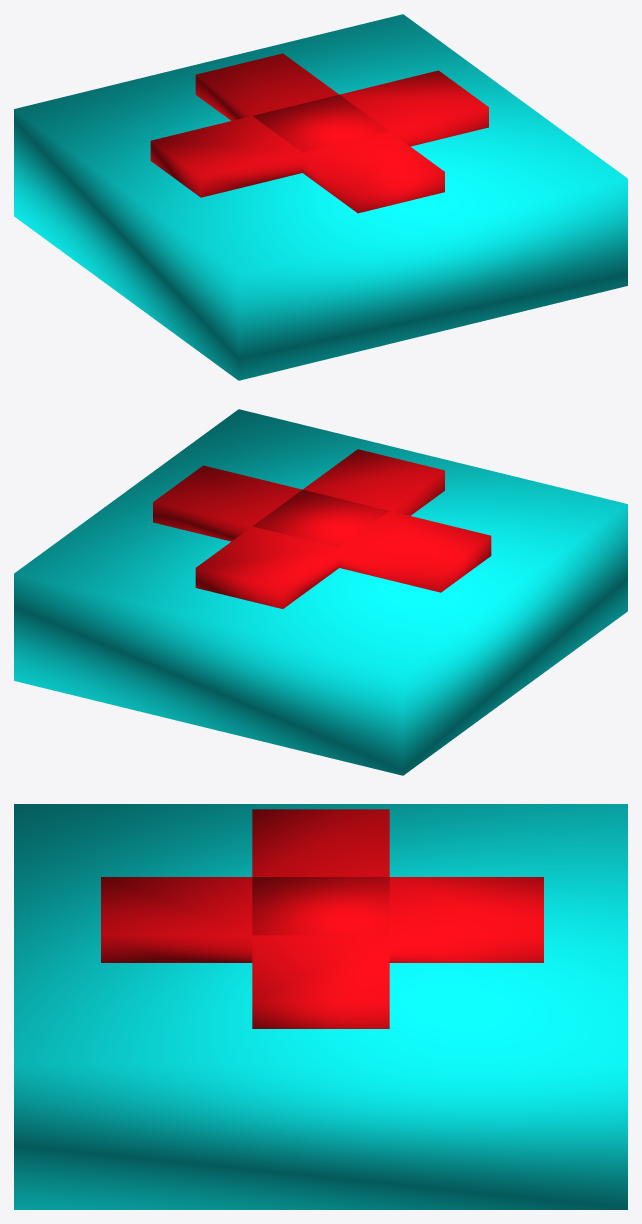
The model's file is Healthpack.fbx.
3 renders of one model, top to bottom at view 1: azimuth 30°, elevation 25°; view 2: azimuth 150°, elevation 25°; view 3: azimuth 270°, elevation 25°, orthographic. The views are drawn at different scales.
Parts seen in each view (by area): view 1: HealthPack; view 2: HealthPack; view 3: HealthPack.
Part boxes in pixels (x1,y1,x2,y2): HealthPack: (14, 14, 627, 380); HealthPack: (14, 409, 627, 775); HealthPack: (14, 804, 627, 1209).
Bounding box in the file's own units: 150 × 54.15 × 150.
